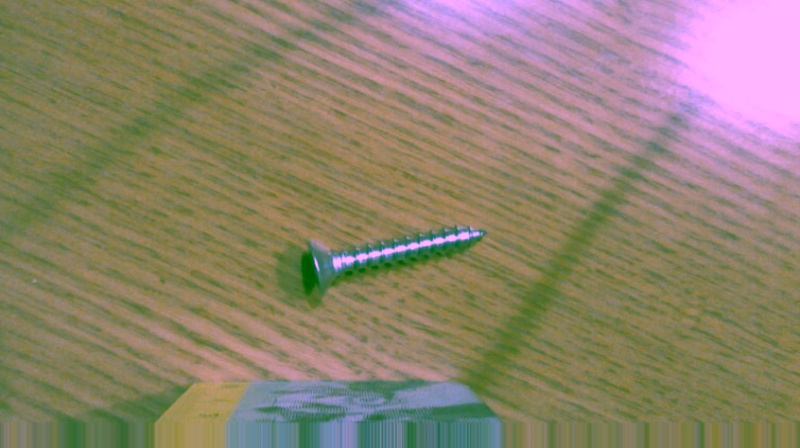S001: (302, 223, 488, 293)
